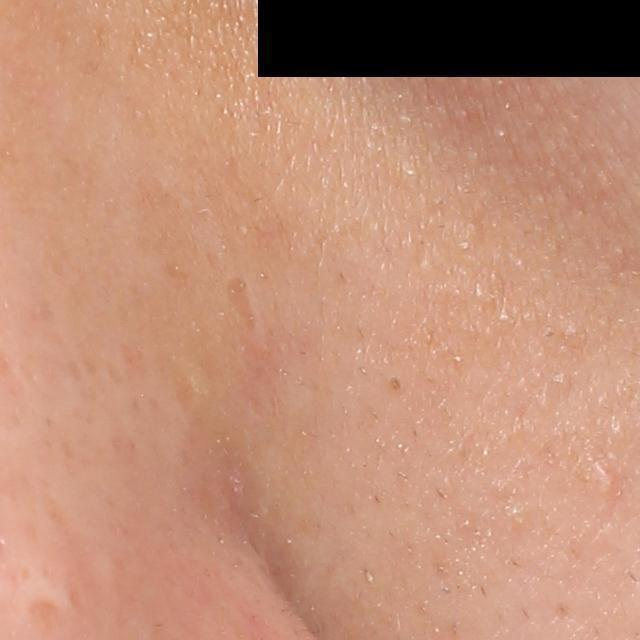atrophic_scar: (222, 271, 262, 335), (29, 601, 66, 634)
comedo: (593, 462, 620, 502), (385, 371, 406, 394)
